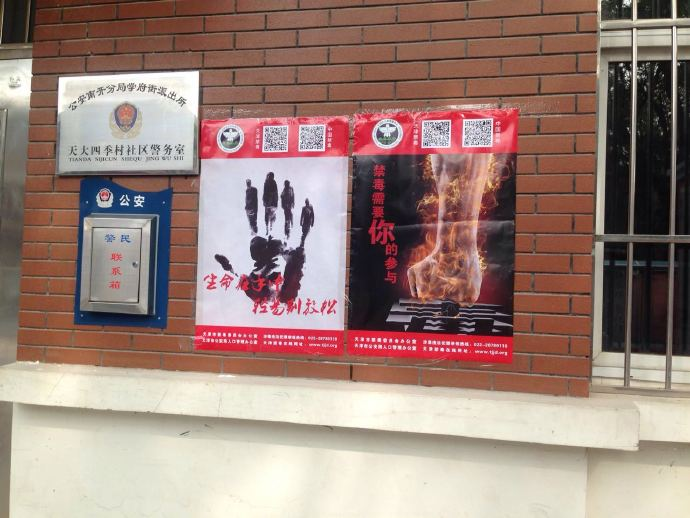bill: (353, 111, 514, 364), (198, 119, 347, 359)
